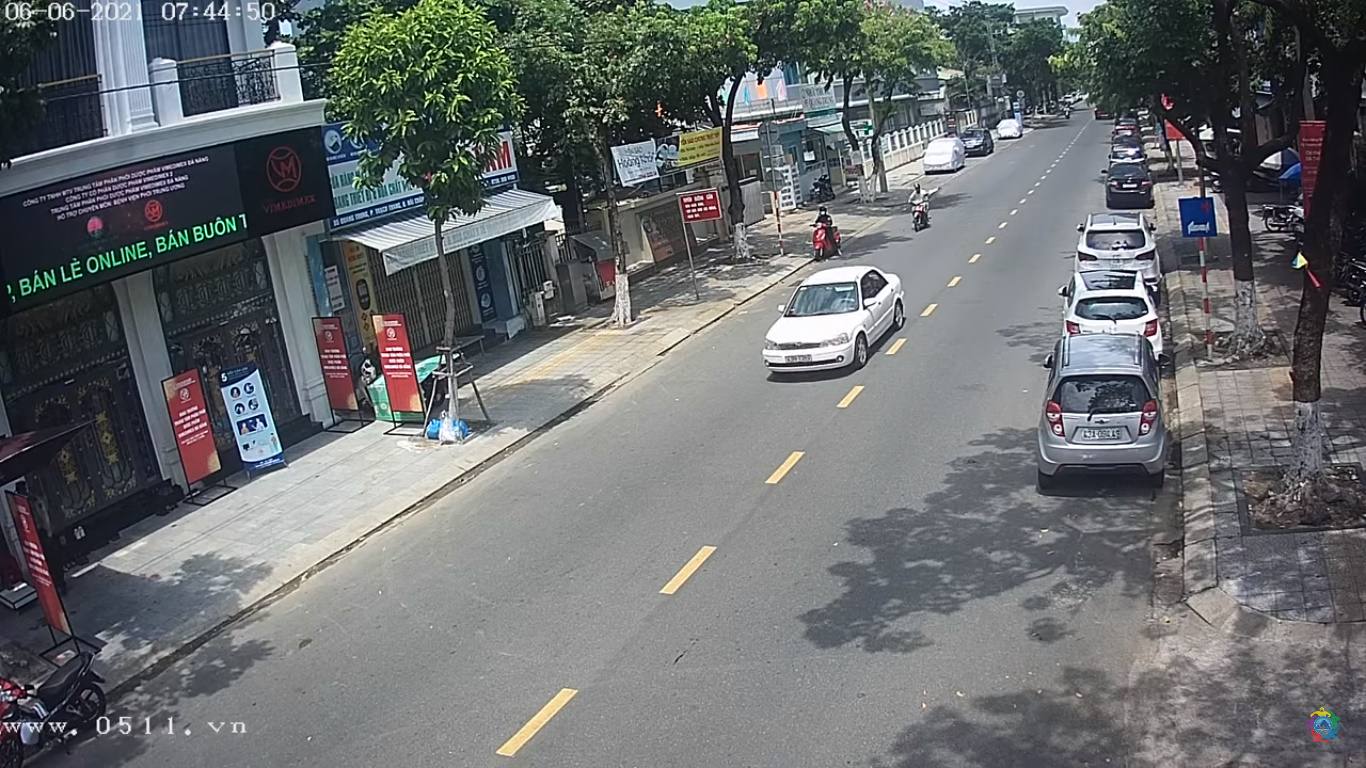car: (762, 257, 909, 382)
